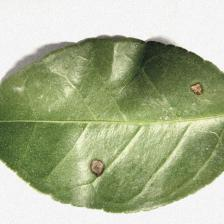canker: (76, 145, 122, 185)
